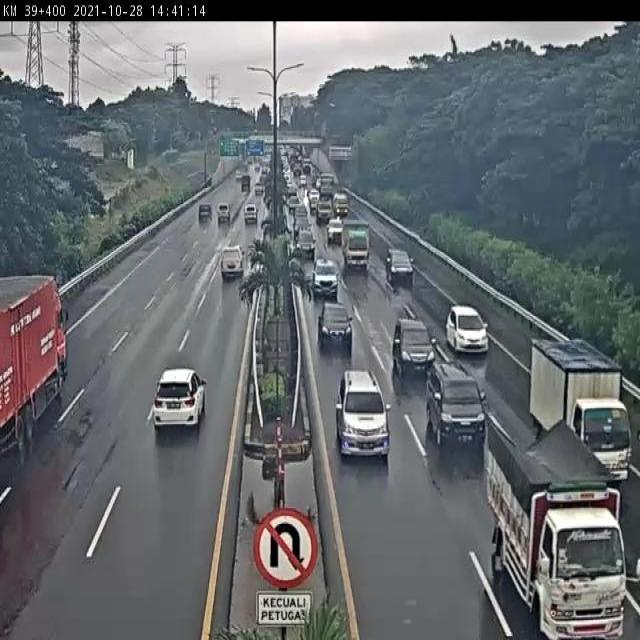car: (131, 361, 231, 447), (337, 367, 391, 460), (427, 364, 485, 449), (391, 315, 436, 377), (446, 306, 491, 354), (210, 247, 247, 297), (318, 302, 355, 349), (311, 256, 339, 297), (385, 245, 414, 284), (238, 205, 257, 227), (215, 197, 230, 223), (197, 197, 211, 220)
truck-m-: (485, 408, 626, 640), (344, 221, 370, 271)
truck-s-: (530, 335, 632, 484)
